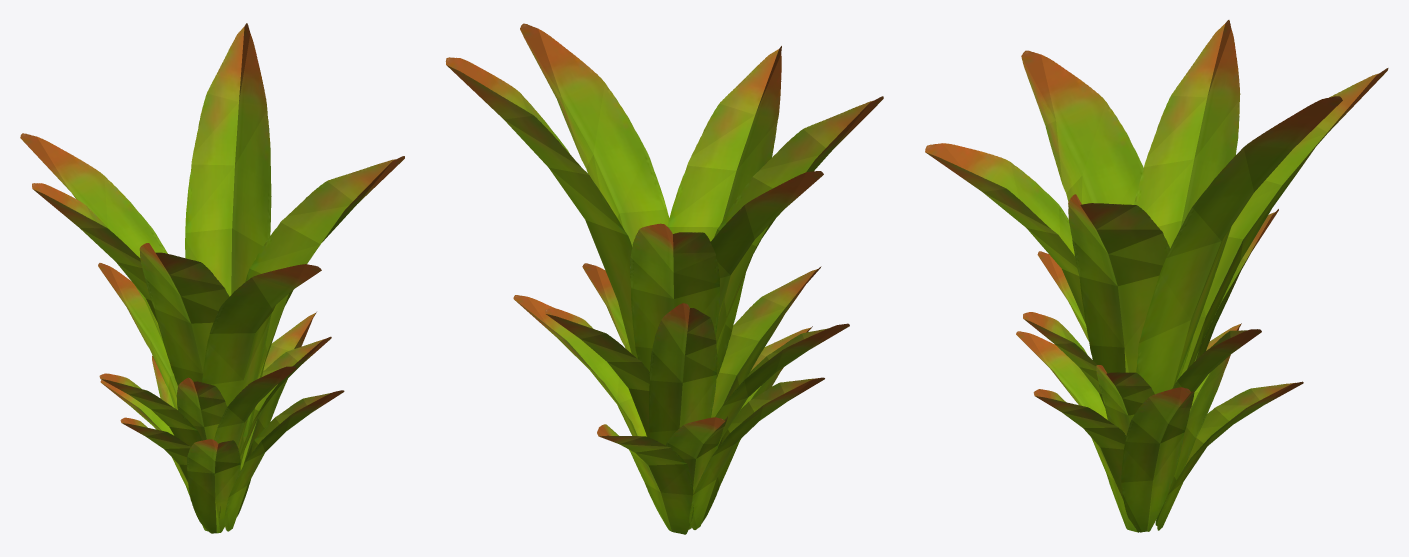
The model's file is Plant_1_Big.obj.
3 renders of one model, left to right at view 1: azimuth 30°, elevation 25°; view 2: azimuth 150°, elevation 25°; view 3: azimuth 270°, elevation 25°, orthographic. The views are drawn at different scales.
Visible parts, largest first — view 1: Plane.035; view 2: Plane.035; view 3: Plane.035.
Part boxes in pixels (left/top/right/bottom): Plane.035: left=20, top=23, right=404, bottom=533; Plane.035: left=445, top=23, right=883, bottom=534; Plane.035: left=925, top=20, right=1388, bottom=532.
Size of the model in its own units: 1.81 by 2.35 by 1.95.
1 material, 1 textured.
